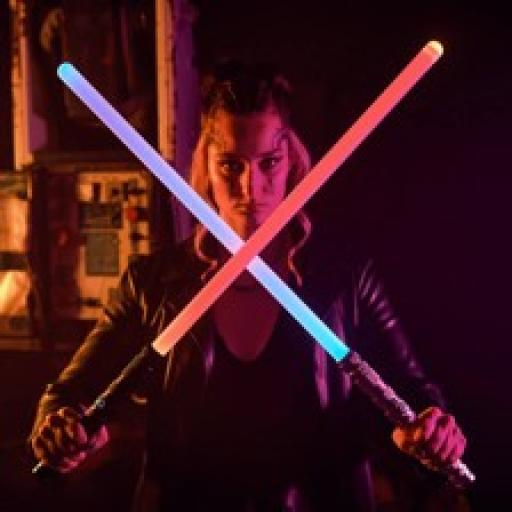human: (32, 74, 467, 512)
lightsaber: (54, 58, 477, 488)
sith saber: (34, 34, 453, 481)
